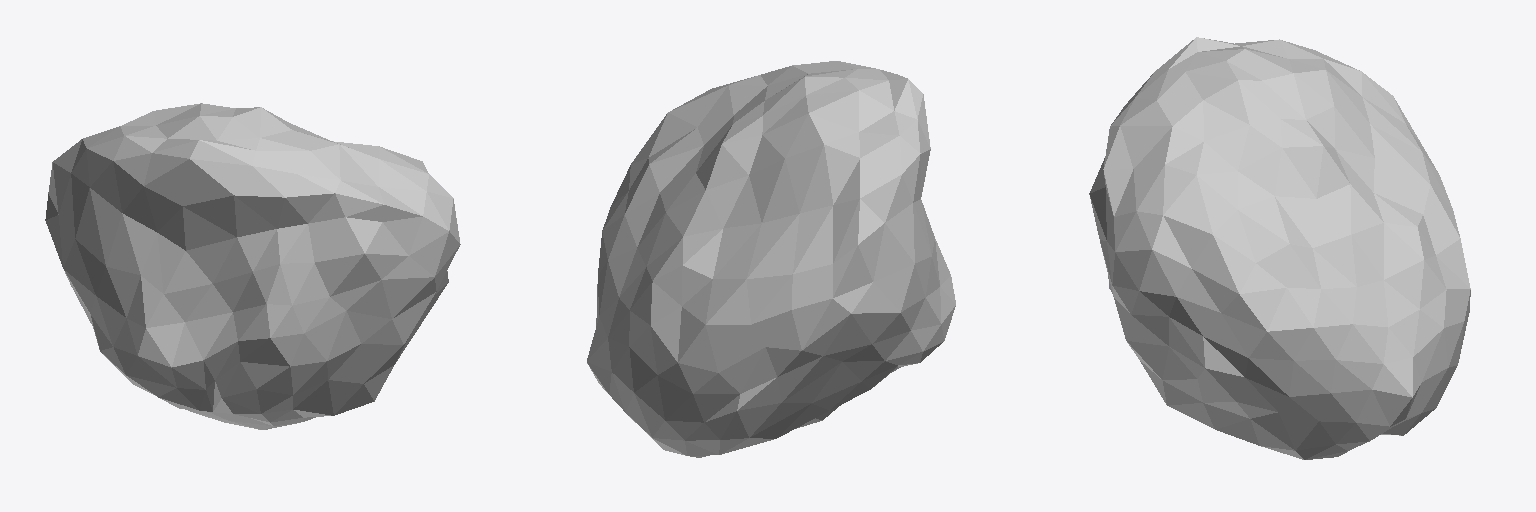
Rendered from asteroid30.obj.
3 renders of one model, left to right at view 1: azimuth 30°, elevation 25°; view 2: azimuth 150°, elevation 25°; view 3: azimuth 270°, elevation 25°, orthographic.
Parts seen in each view (by area): view 1: asteroid; view 2: asteroid; view 3: asteroid.
Boxes of the visible parts, x1=… form: asteroid: x1=45, y1=103, x2=460, y2=429; asteroid: x1=587, y1=61, x2=955, y2=457; asteroid: x1=1089, y1=37, x2=1470, y2=459.
Size of the model in its own units: 46 by 45.85 by 46.37.